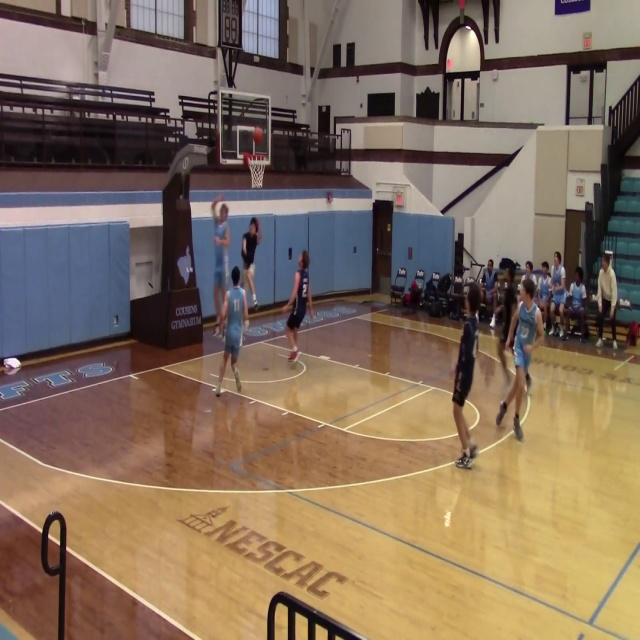Basketball: (252, 127, 263, 143)
